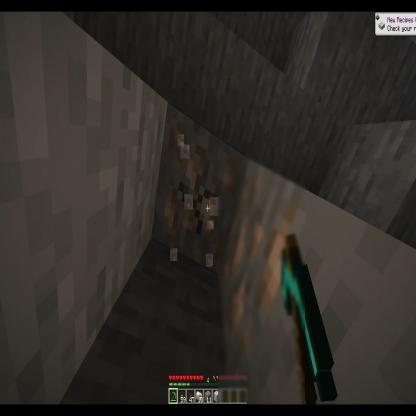iron ore: (218, 155, 305, 402), (150, 101, 248, 284)
